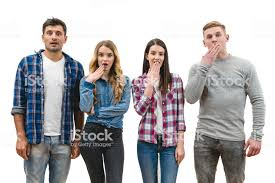person: (190, 17, 259, 108), (18, 13, 80, 113), (130, 39, 184, 109), (87, 38, 130, 114)
